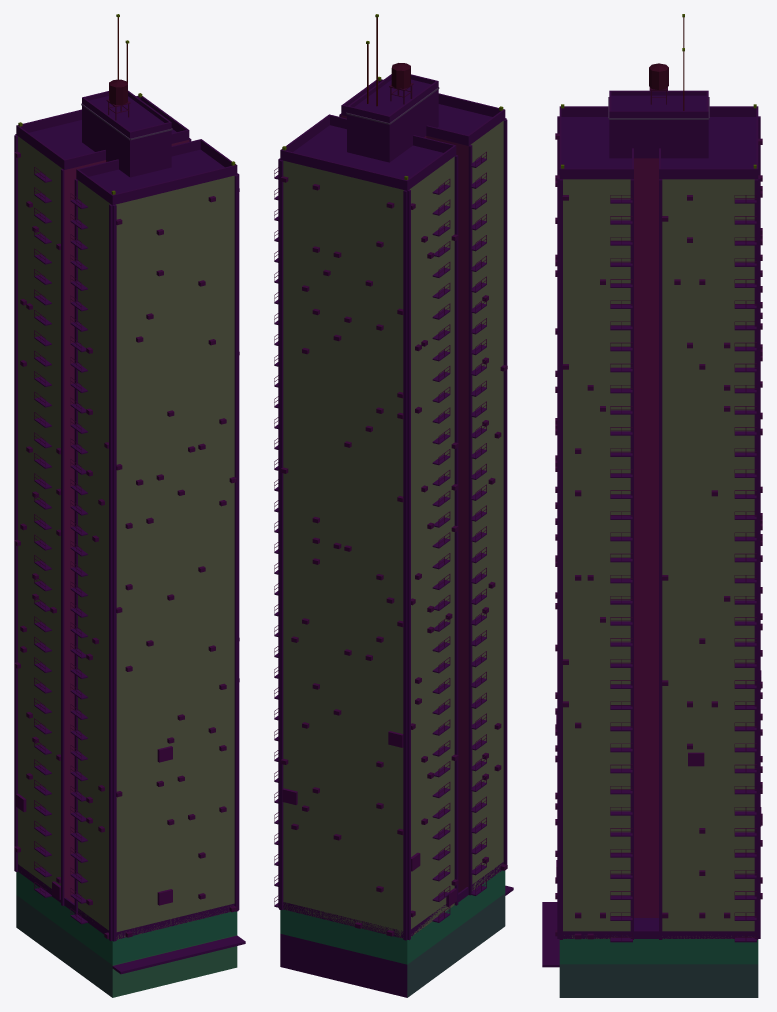
The model's file is restower_b.glb.
The picture shows the model from 3 angles, left to right: view 1: azimuth 30°, elevation 25°; view 2: azimuth 150°, elevation 25°; view 3: azimuth 270°, elevation 25°; orthographic projection. The views are drawn at different scales.
Visible parts, largest first — view 1: restower_b; view 2: restower_b; view 3: restower_b.
Boxes of the visible parts, box(x1,y1,x2,y2) form: restower_b: box(14, 14, 245, 997); restower_b: box(274, 14, 513, 997); restower_b: box(542, 14, 762, 997).
Size of the model in its own units: 21.2 by 136 by 28.35.
